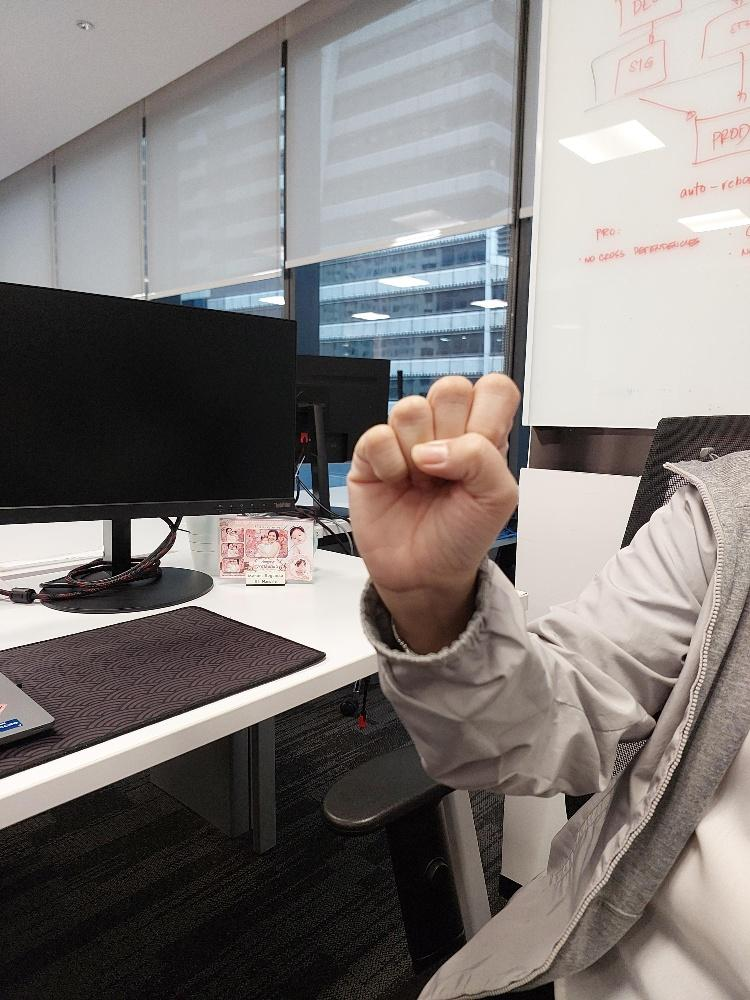s: (343, 368, 520, 591)
